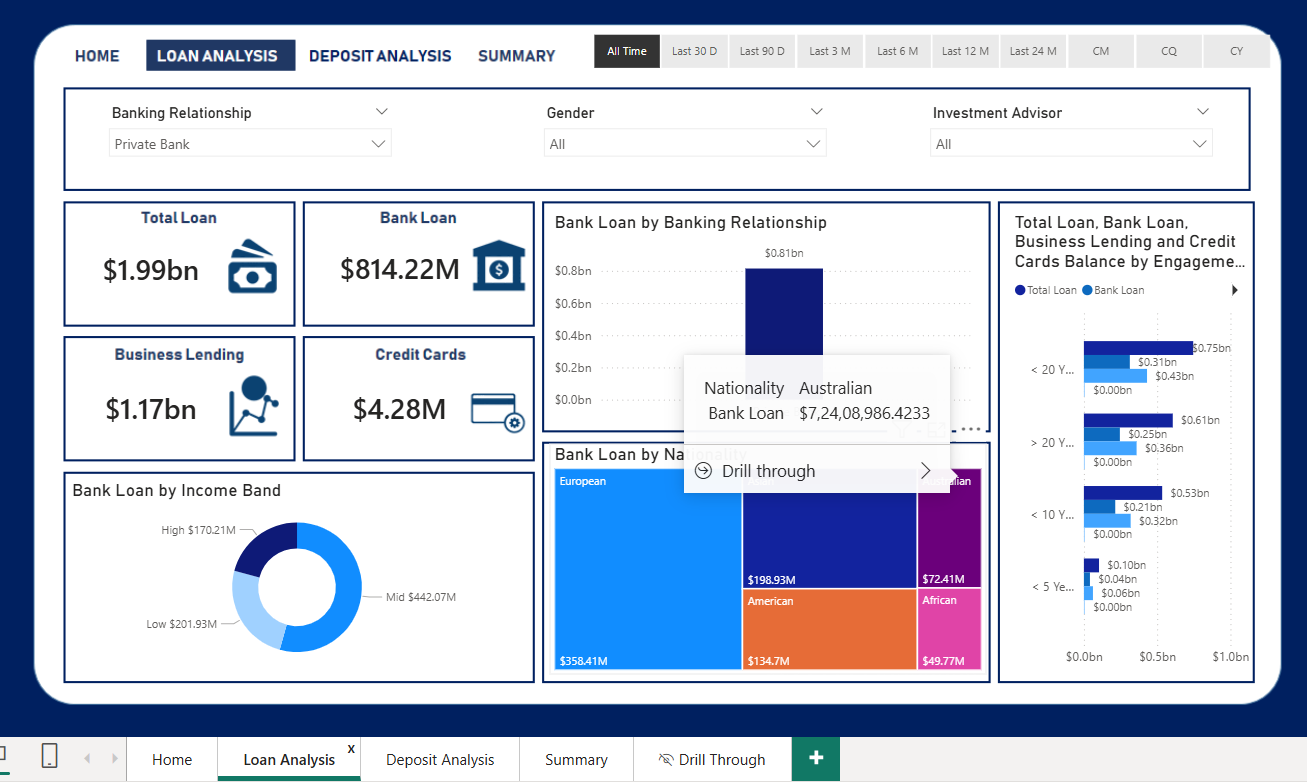

This screenshot's page, from the dashboard's own definition file:
{"tool":"powerbi","page":{"name":"Loan Analysis","canvas":[1280,720],"ordinal":2},"visuals":[{"type":"slicer","fields":{"Values":["banking_case customer.Year of Joining"]},"box":[733.3,32.2,504.1,34.9],"z":0},{"type":"actionButton","box":[36.4,31.7,99.7,39.6],"z":1000},{"type":"actionButton","box":[348.2,31.7,221.6,39.6],"z":2000},{"type":"actionButton","box":[587.1,31.7,123.4,39.6],"z":3000},{"type":"card","fields":{"Values":["banking_case customer.Total Loan"]},"box":[100.9,243.7,179.5,65.5],"z":4000},{"type":"card","fields":{"Values":["Sum(banking_case customer.Bank Loans)"]},"box":[369.5,243.7,179.5,65.5],"z":5000},{"type":"card","fields":{"Values":["Sum(banking_case customer.Business Lending)"]},"box":[100.9,360.4,179.5,65.5],"z":6000},{"type":"card","fields":{"Values":["Sum(banking_case customer.Credit Card Balance)"]},"box":[370.8,360.4,179.5,65.5],"z":7000},{"type":"donutChart","fields":{"Category":["banking_case customer.Income Band"],"Y":["Sum(banking_case customer.Bank Loans)"]},"box":[66.8,488.8,530.7,176.9],"z":8000},{"type":"clusteredColumnChart","fields":{"Category":["banking_case customer.BRId"],"Y":["Sum(banking_case customer.Bank Loans)"]},"box":[613.3,243.7,293.5,182.1],"z":9000},{"type":"clusteredColumnChart","fields":{"Category":["banking_case customer.Nationality"],"Y":["Sum(banking_case customer.Bank Loans)"]},"box":[613.3,488.8,293.5,182.1],"z":10000},{"type":"clusteredColumnChart","fields":{"Category":["banking_case customer.BRId"],"Y":["Sum(banking_case customer.Bank Loans)"]},"box":[933.7,245.3,292.8,425.7],"z":11000},{"type":"slicer","fields":{"Values":["banking_case customer.BRId"]},"box":[66.8,123.2,428.5,57.7],"z":12000},{"type":"slicer","fields":{"Values":["banking_case customer.GenderId"]},"box":[512.4,123.2,302.7,57.7],"z":13000},{"type":"slicer","fields":{"Values":["banking_case customer.IAId"]},"box":[843.9,123.2,364.3,57.7],"z":14000}]}

Visuals, with their boxes on the page's 1280x720 design canvas (x1, y1, x2, y2). These are canvas units, not pixel positions in the 1307x782 screenshot, which may show the page scaled, cropped or inside an application window:
slicer - banking_case customer.Year of Joining: rect(733, 32, 1237, 67)
actionButton: rect(36, 32, 136, 71)
actionButton: rect(348, 32, 570, 71)
actionButton: rect(587, 32, 710, 71)
card - banking_case customer.Total Loan: rect(101, 244, 280, 309)
card - Sum(banking_case customer.Bank Loans): rect(370, 244, 549, 309)
card - Sum(banking_case customer.Business Lending): rect(101, 360, 280, 426)
card - Sum(banking_case customer.Credit Card Balance): rect(371, 360, 550, 426)
donutChart - banking_case customer.Income Band x Sum(banking_case customer.Bank Loans): rect(67, 489, 598, 666)
clusteredColumnChart - banking_case customer.BRId x Sum(banking_case customer.Bank Loans): rect(613, 244, 907, 426)
clusteredColumnChart - banking_case customer.Nationality x Sum(banking_case customer.Bank Loans): rect(613, 489, 907, 671)
clusteredColumnChart - banking_case customer.BRId x Sum(banking_case customer.Bank Loans): rect(934, 245, 1226, 671)
slicer - banking_case customer.BRId: rect(67, 123, 495, 181)
slicer - banking_case customer.GenderId: rect(512, 123, 815, 181)
slicer - banking_case customer.IAId: rect(844, 123, 1208, 181)
